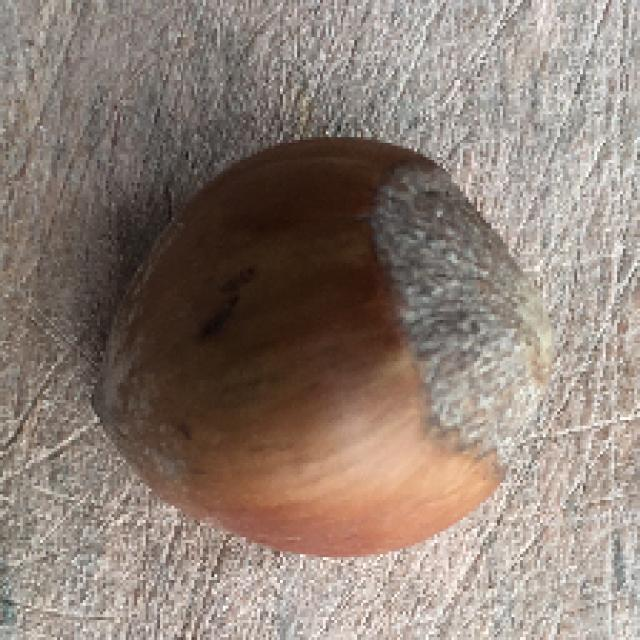damagedHazelnut: (90, 114, 558, 567)
